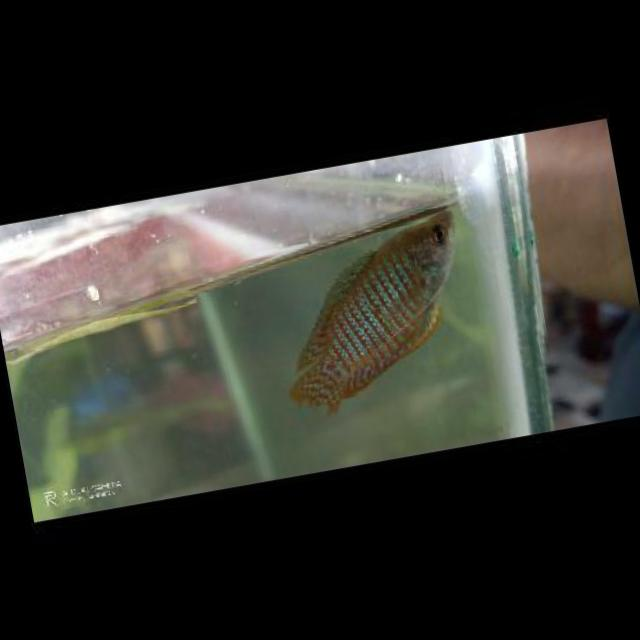Gourami: (259, 204, 487, 413)
